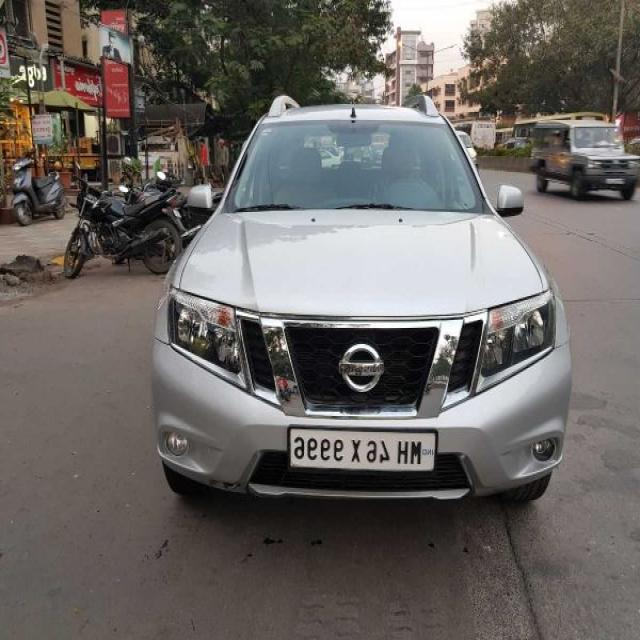number-plate: (273, 425, 446, 485)
